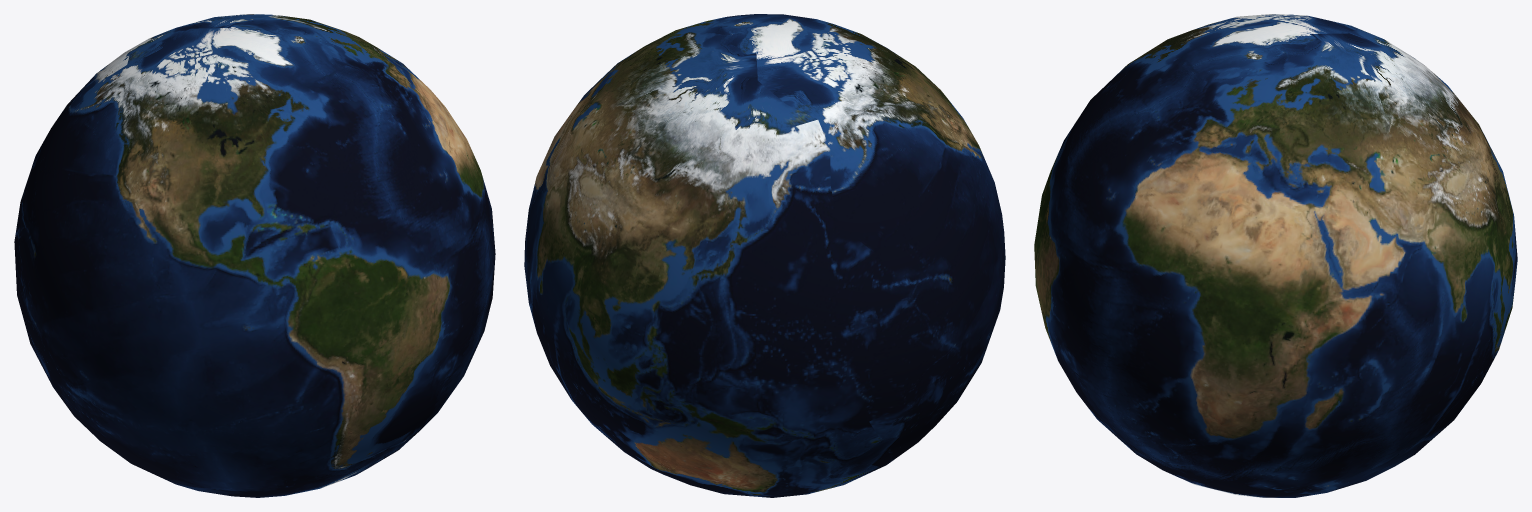
File: Earth.fbx
3 renders of one model, left to right at view 1: azimuth 30°, elevation 25°; view 2: azimuth 150°, elevation 25°; view 3: azimuth 270°, elevation 25°, orthographic.
Visible parts, largest first — view 1: Sphere; view 2: Sphere; view 3: Sphere.
Part boxes in pixels (x1=…): Sphere: x1=14, y1=14, x2=495, y2=497; Sphere: x1=524, y1=14, x2=1005, y2=497; Sphere: x1=1034, y1=14, x2=1517, y2=497.
Bounding box in the file's own units: 593 × 597 × 594.
